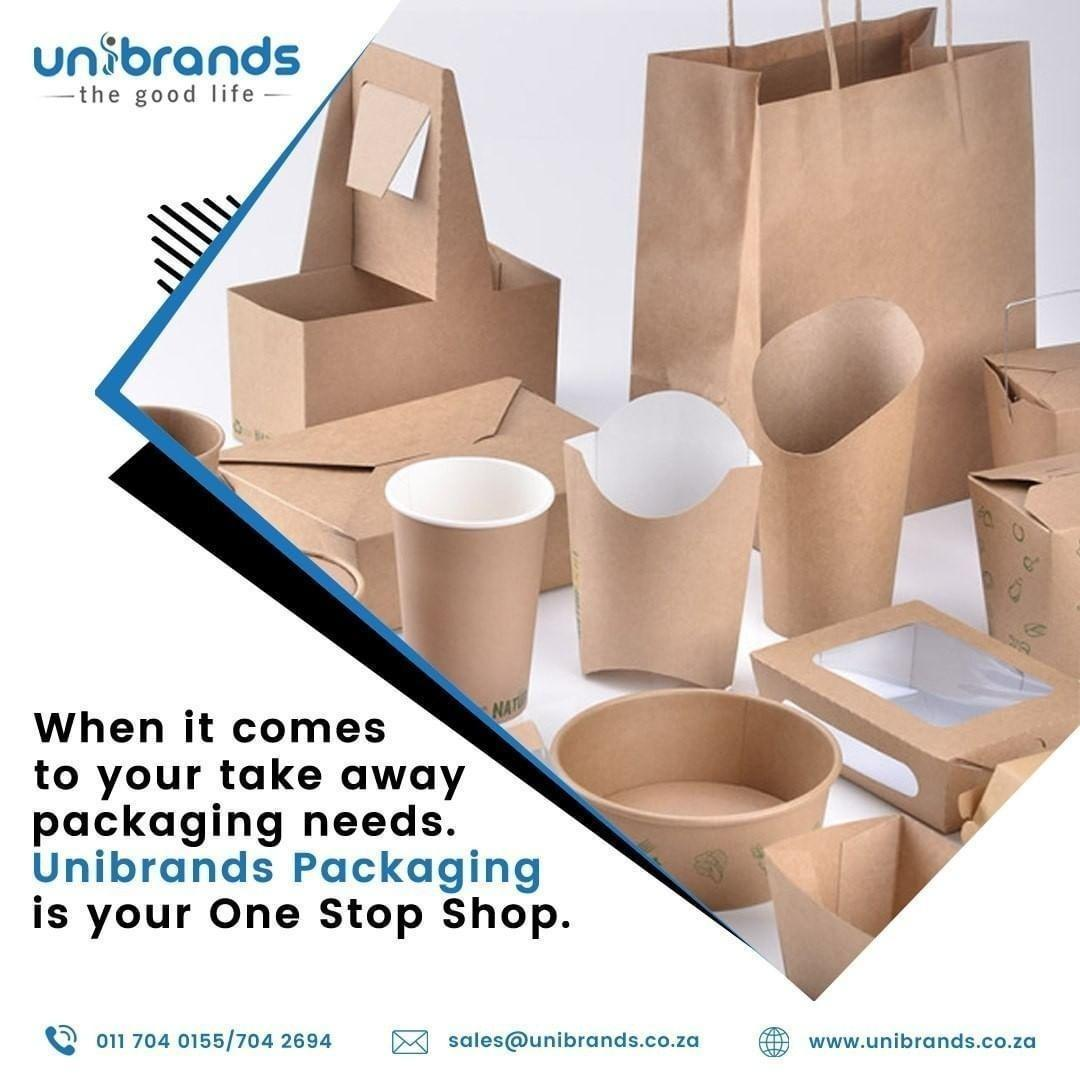cup-disposable: (379, 449, 560, 724)
